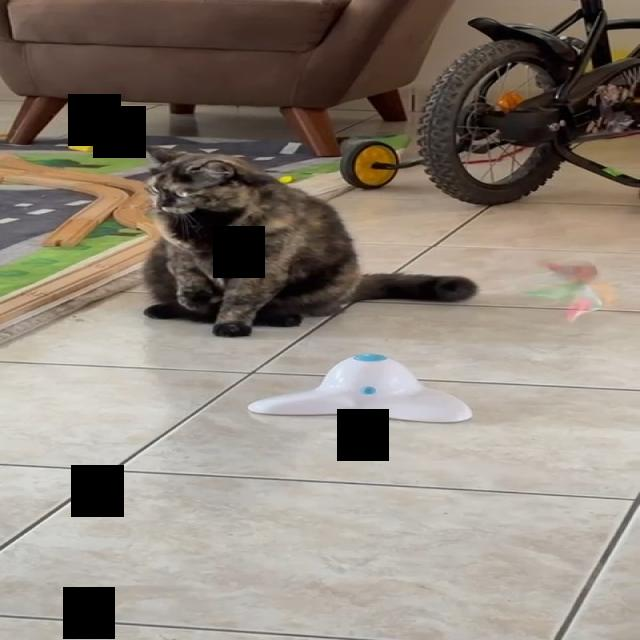authorized: (139, 146, 477, 337)
